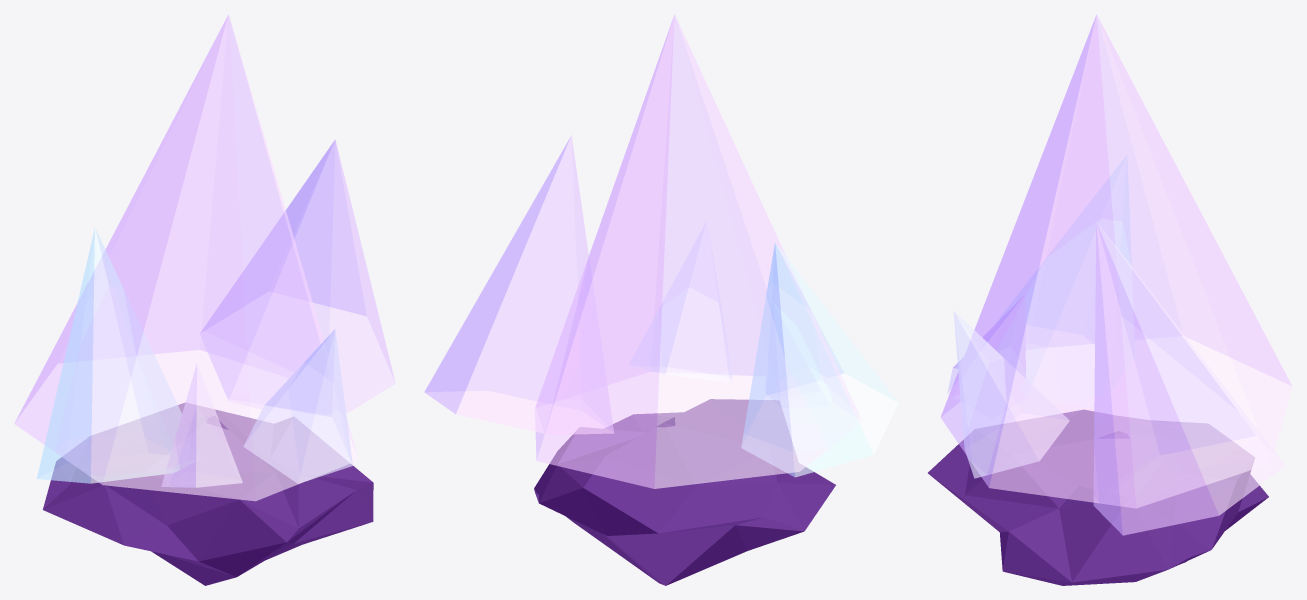
The model's file is stone-c.glb.
3 views of the same model, side by side, from view 1: azimuth 30°, elevation 25°; view 2: azimuth 150°, elevation 25°; view 3: azimuth 270°, elevation 25° (orthographic). The views are drawn at different scales.
Visible parts, largest first — view 1: Crystal_Main, Crystal_Base, Crystal_A, Crystal_B, Crystal_C, Crystal_D; view 2: Crystal_Main, Crystal_Base, Crystal_A, Crystal_B, Crystal_C, Crystal_D; view 3: Crystal_Main, Crystal_Base, Crystal_A, Crystal_B, Crystal_C, Crystal_D.
Part boxes in pixels (bbox=[...]): Crystal_Main: bbox=[14, 14, 358, 501]; Crystal_Base: bbox=[43, 402, 373, 585]; Crystal_A: bbox=[200, 139, 395, 413]; Crystal_B: bbox=[37, 228, 197, 483]; Crystal_C: bbox=[243, 329, 352, 483]; Crystal_D: bbox=[161, 363, 242, 487]; Crystal_Main: bbox=[535, 14, 861, 488]; Crystal_Base: bbox=[534, 399, 835, 585]; Crystal_A: bbox=[424, 135, 613, 434]; Crystal_B: bbox=[741, 242, 898, 477]; Crystal_C: bbox=[629, 221, 732, 382]; Crystal_D: bbox=[778, 367, 842, 396]; Crystal_Main: bbox=[940, 14, 1292, 507]; Crystal_Base: bbox=[928, 410, 1268, 585]; Crystal_A: bbox=[1093, 222, 1285, 535]; Crystal_B: bbox=[995, 155, 1131, 407]; Crystal_C: bbox=[953, 311, 1069, 478]; Crystal_D: bbox=[947, 295, 1025, 401].
Bounding box in the file's own units: 2.71 × 3.49 × 2.11.
